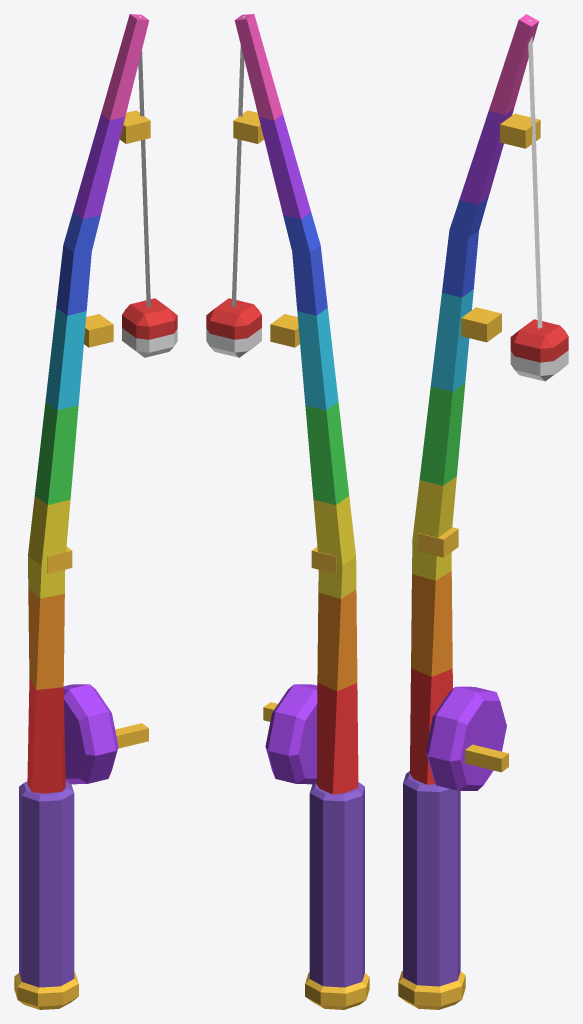
The model's file is RainbowFishingRod.fbx.
3 renders of one model, left to right at view 1: azimuth 30°, elevation 25°; view 2: azimuth 150°, elevation 25°; view 3: azimuth 330°, elevation 25°, orthographic. The views are drawn at different scales.
Visible parts, largest first — view 1: RainbowFishingRod; view 2: RainbowFishingRod; view 3: RainbowFishingRod.
Boxes of the visible parts, x1,y1,x2,y2 form: RainbowFishingRod: (14,14,177,1009); RainbowFishingRod: (206,14,369,1009); RainbowFishingRod: (398,14,568,1009).
Bounding box in the file's own units: 0.74 × 4.45 × 0.44.
Materials: 1 (1 with a texture image).
